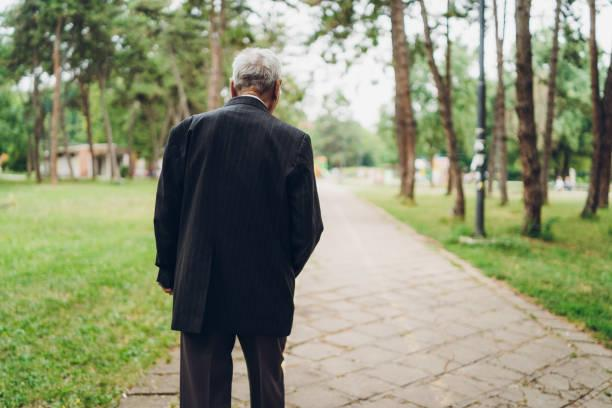Human: (149, 27, 326, 408)
